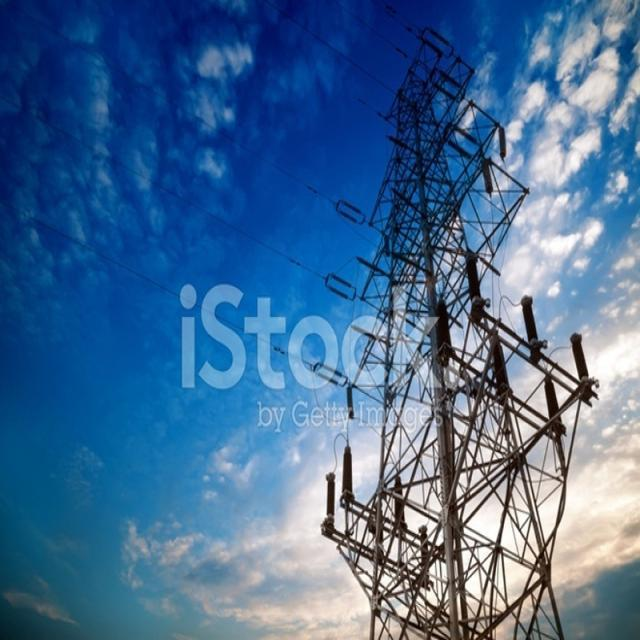non-critical vegetation: (318, 49, 590, 627)
